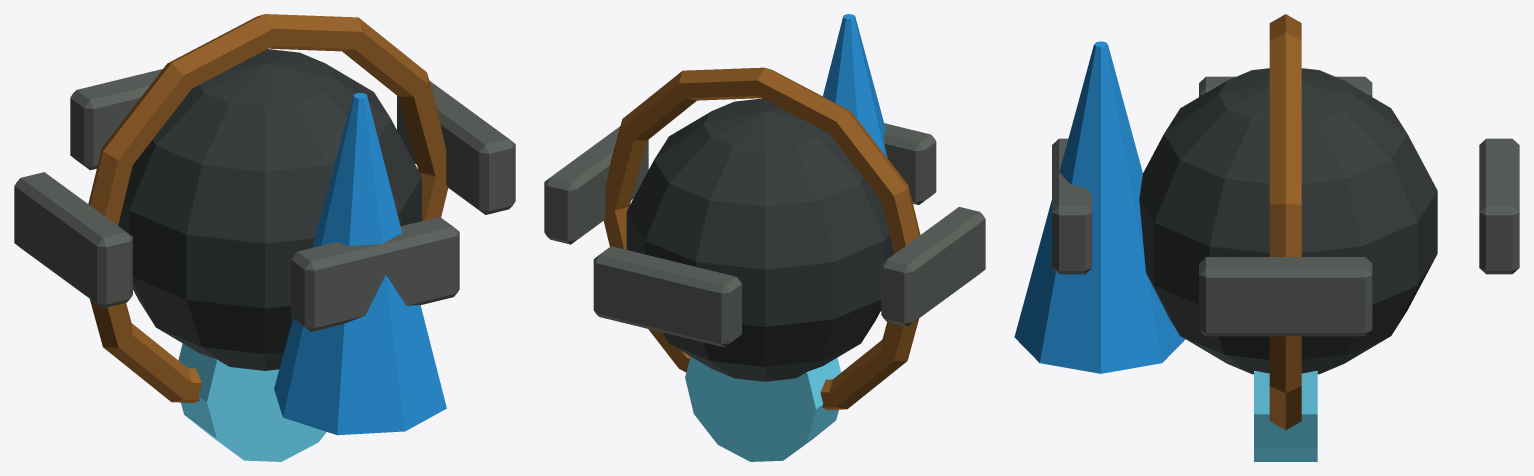
The model's file is BlueflameSentry.glb.
3 views of the same model, side by side, from view 1: azimuth 30°, elevation 25°; view 2: azimuth 150°, elevation 25°; view 3: azimuth 270°, elevation 25° (orthographic). The views are drawn at different scales.
Visible parts, largest first — view 1: Body, BlueFlame, GuardRing, BladeFin4, BladeFin3, Lens, BladeFin1, BladeFin2; view 2: Body, GuardRing, BladeFin2, Lens, BladeFin3, BladeFin1, BlueFlame, BladeFin4; view 3: Body, BlueFlame, BladeFin1, GuardRing, BladeFin2, BladeFin4, Lens, BladeFin3.
Part boxes in pixels (left/top/right/bottom): Body: left=118, top=49, right=421, bottom=370; BlueFlame: left=274, top=93, right=446, bottom=435; GuardRing: left=88, top=14, right=448, bottom=402; BladeFin4: left=291, top=217, right=459, bottom=331; BladeFin3: left=14, top=172, right=132, bottom=308; Lens: left=178, top=343, right=326, bottom=461; BladeFin1: left=397, top=80, right=515, bottom=214; BladeFin2: left=70, top=69, right=162, bottom=170; Body: left=626, top=98, right=893, bottom=381; GuardRing: left=603, top=67, right=920, bottom=409; BladeFin2: left=593, top=246, right=741, bottom=347; Lens: left=685, top=357, right=840, bottom=461; BladeFin3: left=881, top=207, right=985, bottom=326; BladeFin1: left=544, top=126, right=648, bottom=244; BlueFlame: left=823, top=14, right=887, bottom=311; BladeFin4: left=884, top=123, right=936, bottom=204; Body: left=1139, top=68, right=1437, bottom=374; BlueFlame: left=1014, top=41, right=1185, bottom=373; BladeFin1: left=1199, top=257, right=1372, bottom=336; GuardRing: left=1269, top=14, right=1301, bottom=430; BladeFin2: left=1479, top=138, right=1519, bottom=274; BladeFin4: left=1052, top=138, right=1092, bottom=274; Lens: left=1254, top=371, right=1317, bottom=461; BladeFin3: left=1199, top=76, right=1372, bottom=96.
Size of the model in its own units: 4.05 by 4.03 by 4.37.
Materials: 1 (1 with a texture image).
